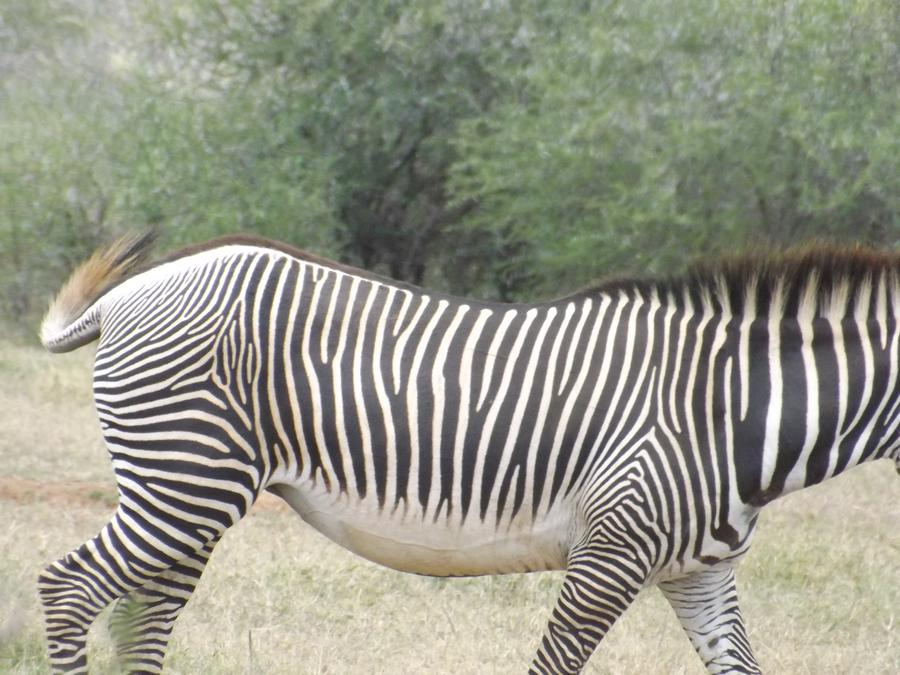zebra_grevys: (107, 230, 701, 585)
